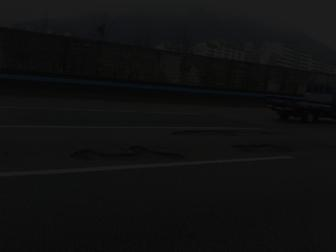pothole: (62, 139, 192, 169), (167, 120, 243, 139), (230, 141, 296, 158)
